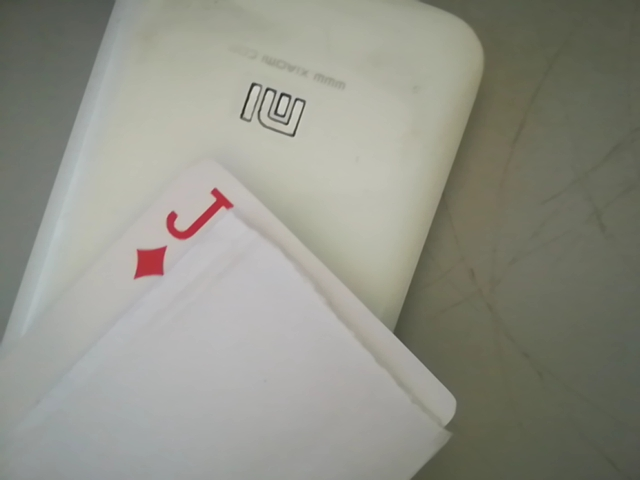fk j: (113, 183, 239, 287)
